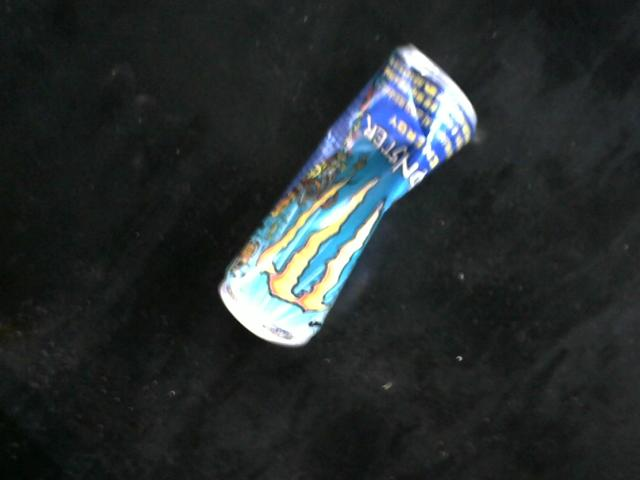can: (222, 35, 482, 351)
